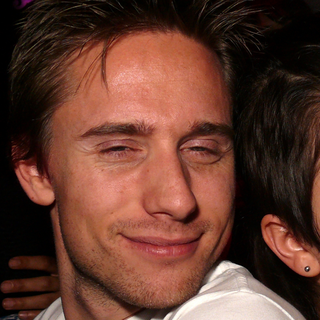eye: (94, 139, 143, 163), (180, 140, 225, 163)
